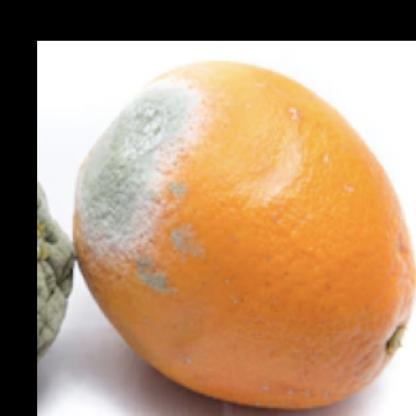rotten: (70, 65, 416, 416)
